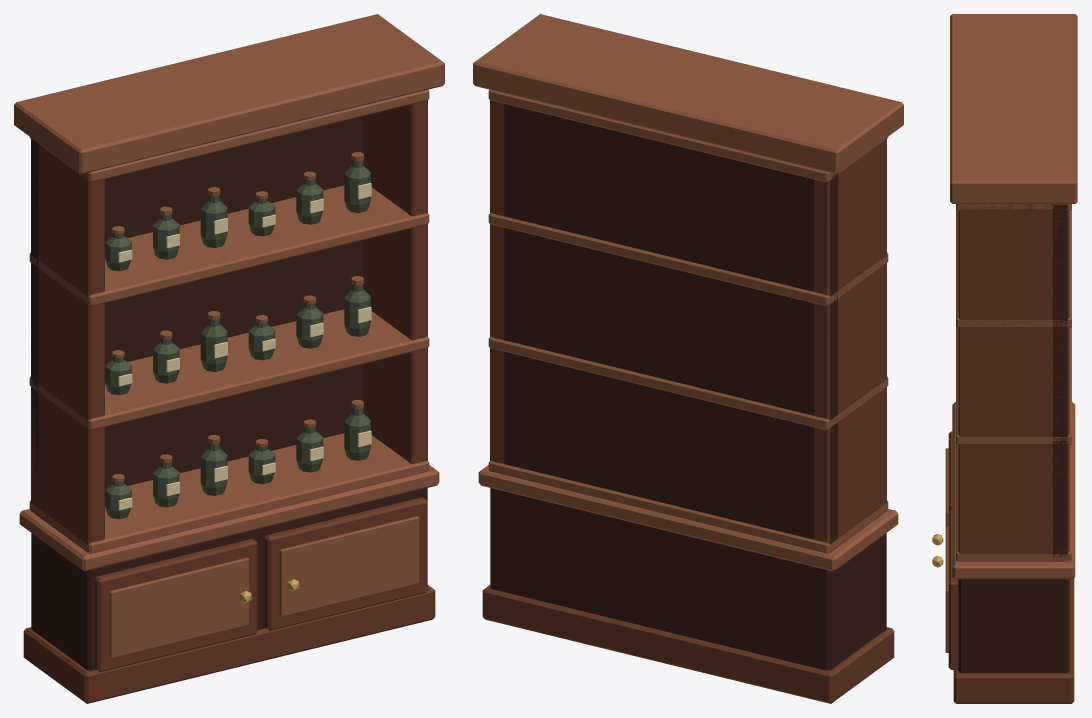
The model's file is medicine_cabinet.glb.
The picture shows the model from 3 angles, left to right: view 1: azimuth 30°, elevation 25°; view 2: azimuth 150°, elevation 25°; view 3: azimuth 270°, elevation 25°; orthographic projection. The views are drawn at different scales.
Parts seen in each view (by area): view 1: Back, Crown, Base, Side, Side_001, Shelf_002, Shelf_001, Shelf, Base_Plinth, Base_Body, Base_Top, Shelf_003 (+18 smaller); view 2: Back, Base_Body, Crown, Side, Base_Plinth, Base_Top, Side_001, Shelf_001, Shelf_002, Shelf, Shelf_003; view 3: Side_001, Crown, Base_Body, Back, Base_Plinth, Base_Top, Base, Shelf, Shelf_002, Shelf_001, Shelf_003.
Part boxes in pixels (bbox=[...]): Back: bbox=[31, 116, 362, 507]; Crown: bbox=[14, 14, 444, 174]; Base: bbox=[94, 497, 427, 672]; Side: bbox=[31, 140, 104, 552]; Side_001: bbox=[363, 100, 427, 463]; Shelf_002: bbox=[29, 185, 429, 306]; Shelf_001: bbox=[29, 309, 429, 430]; Shelf: bbox=[29, 433, 429, 553]; Base_Plinth: bbox=[23, 585, 435, 703]; Base_Body: bbox=[31, 488, 427, 670]; Base_Top: bbox=[19, 465, 439, 571]; Shelf_003: bbox=[29, 90, 429, 182]; Back: bbox=[504, 104, 837, 552]; Base_Body: bbox=[490, 488, 886, 670]; Crown: bbox=[473, 14, 903, 174]; Side: bbox=[814, 138, 886, 546]; Base_Plinth: bbox=[482, 585, 894, 703]; Base_Top: bbox=[478, 465, 898, 571]; Side_001: bbox=[490, 100, 504, 463]; Shelf_001: bbox=[488, 337, 888, 430]; Shelf_002: bbox=[488, 213, 888, 306]; Shelf: bbox=[488, 461, 888, 553]; Shelf_003: bbox=[488, 90, 888, 182]; Side_001: bbox=[958, 204, 1069, 561]; Crown: bbox=[950, 14, 1077, 203]; Base_Body: bbox=[958, 579, 1069, 673]; Back: bbox=[1053, 204, 1067, 561]; Base_Plinth: bbox=[953, 578, 1074, 703]; Base_Top: bbox=[952, 402, 1075, 579]; Base: bbox=[932, 431, 958, 669]; Shelf: bbox=[956, 443, 1071, 561]; Shelf_002: bbox=[956, 209, 1071, 327]; Shelf_001: bbox=[956, 326, 1071, 444]; Shelf_003: bbox=[956, 204, 1071, 210].
Size of the model in its own units: 1.72 by 2.51 by 0.6268.
